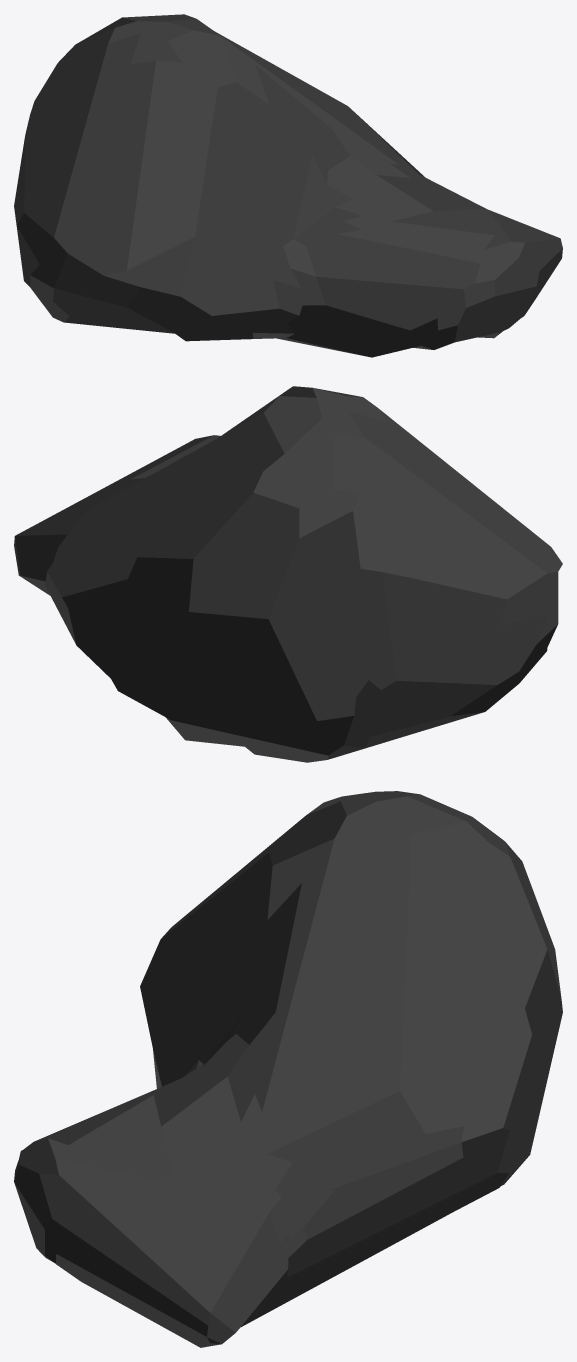
The model's file is Rock04.fbx.
3 renders of one model, top to bottom at view 1: azimuth 30°, elevation 25°; view 2: azimuth 150°, elevation 25°; view 3: azimuth 270°, elevation 25°, orthographic. The views are drawn at different scales.
Visible parts, largest first — view 1: Rock04; view 2: Rock04; view 3: Rock04.
Boxes of the visible parts, x1,y1,x2,y2 form: Rock04: (14,14,562,357); Rock04: (14,386,562,762); Rock04: (14,791,562,1347).
Bounding box in the file's own units: 1077 × 650 × 828.
